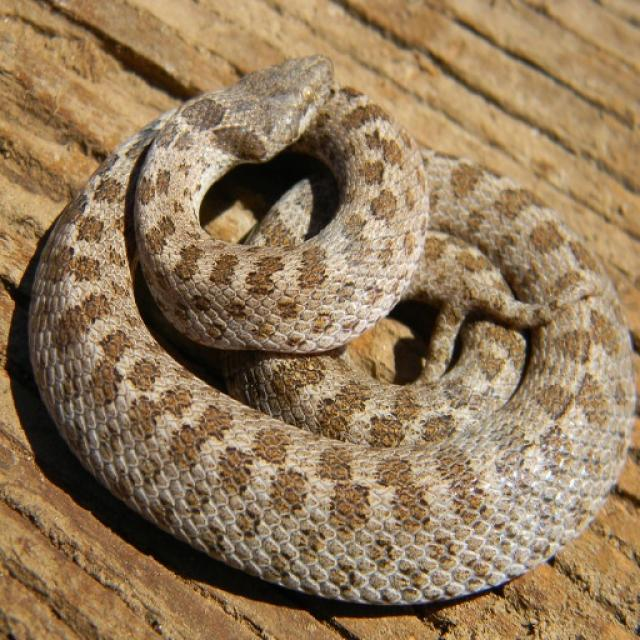snake: (25, 58, 639, 604)
